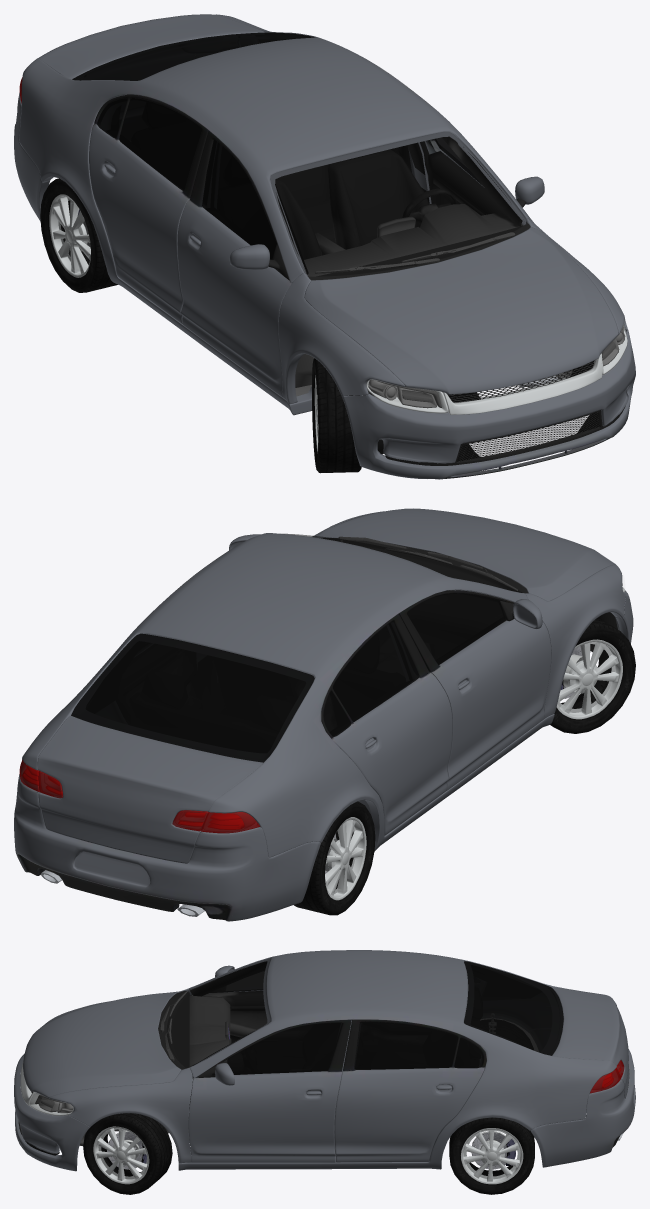
Rendered from auto.glb.
3 renders of one model, top to bottom at view 1: azimuth 30°, elevation 25°; view 2: azimuth 150°, elevation 25°; view 3: azimuth 270°, elevation 25°, orthographic. The views are drawn at different scales.
Visible parts, largest first — view 1: Object_135, Object_125, glass_windshield, Object_23, Object_41, Object_53, Object_73, Object_85, Object_33, Object_203, glass_back_right, glass_front_right (+21 smaller); view 2: Object_135, glass_rear, Object_203, Object_27, Object_41, Object_53, Object_125, Object_73, glass_back_right, glass_front_right, Object_249, Object_247 (+8 smaller); view 3: Object_135, Object_39, Object_51, Object_125, glass_windshield, glass_rear, Object_71, Object_27, Object_203, glass_back_left, glass_front_left, Object_23 (+14 smaller).
Boxes of the visible parts, box(x1,y1,x2,y2) form: Object_135: box(19, 14, 533, 415); Object_125: box(304, 227, 618, 394); glass_windshield: box(270, 132, 527, 276); Object_23: box(342, 328, 635, 479); Object_41: box(177, 131, 291, 396); Object_53: box(89, 94, 208, 323); Object_73: box(278, 273, 404, 404); Object_85: box(328, 149, 428, 249); Object_33: box(304, 204, 520, 276); Object_203: box(39, 14, 264, 79); glass_back_right: box(119, 98, 201, 190); glass_front_right: box(202, 139, 276, 259); Object_135: box(20, 533, 554, 857); glass_rear: box(71, 633, 314, 762); Object_203: box(37, 715, 263, 863); Object_27: box(14, 774, 320, 921); Object_41: box(398, 590, 551, 790); Object_53: box(321, 614, 452, 835); Object_125: box(312, 508, 615, 601); Object_73: box(525, 564, 625, 718); glass_back_right: box(333, 621, 419, 721); glass_front_right: box(407, 593, 505, 664); Object_249: box(556, 639, 622, 719); Object_247: box(550, 617, 635, 733); Object_135: box(178, 950, 621, 1170); Object_39: box(188, 1019, 351, 1162); Object_51: box(334, 1019, 486, 1162); Object_125: box(23, 991, 181, 1098); glass_windshield: box(167, 958, 270, 1068); glass_rear: box(464, 961, 563, 1055); Object_71: box(49, 1067, 192, 1163); Object_27: box(530, 1049, 635, 1167); Object_203: box(552, 987, 629, 1098); glass_back_left: box(354, 1021, 457, 1069); glass_front_left: box(227, 1023, 342, 1074); Object_23: box(14, 1054, 89, 1171).
Bounding box in the file's own units: 2.16 × 1.5 × 4.98.
19 materials, 6 textured.
